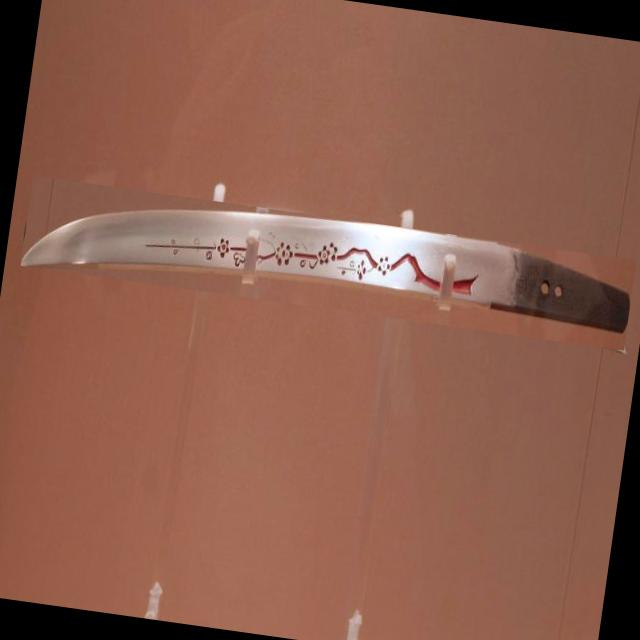Knife: (21, 211, 629, 333)
